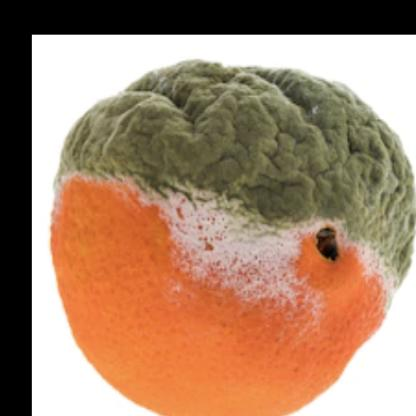rotten: (55, 62, 413, 416)
